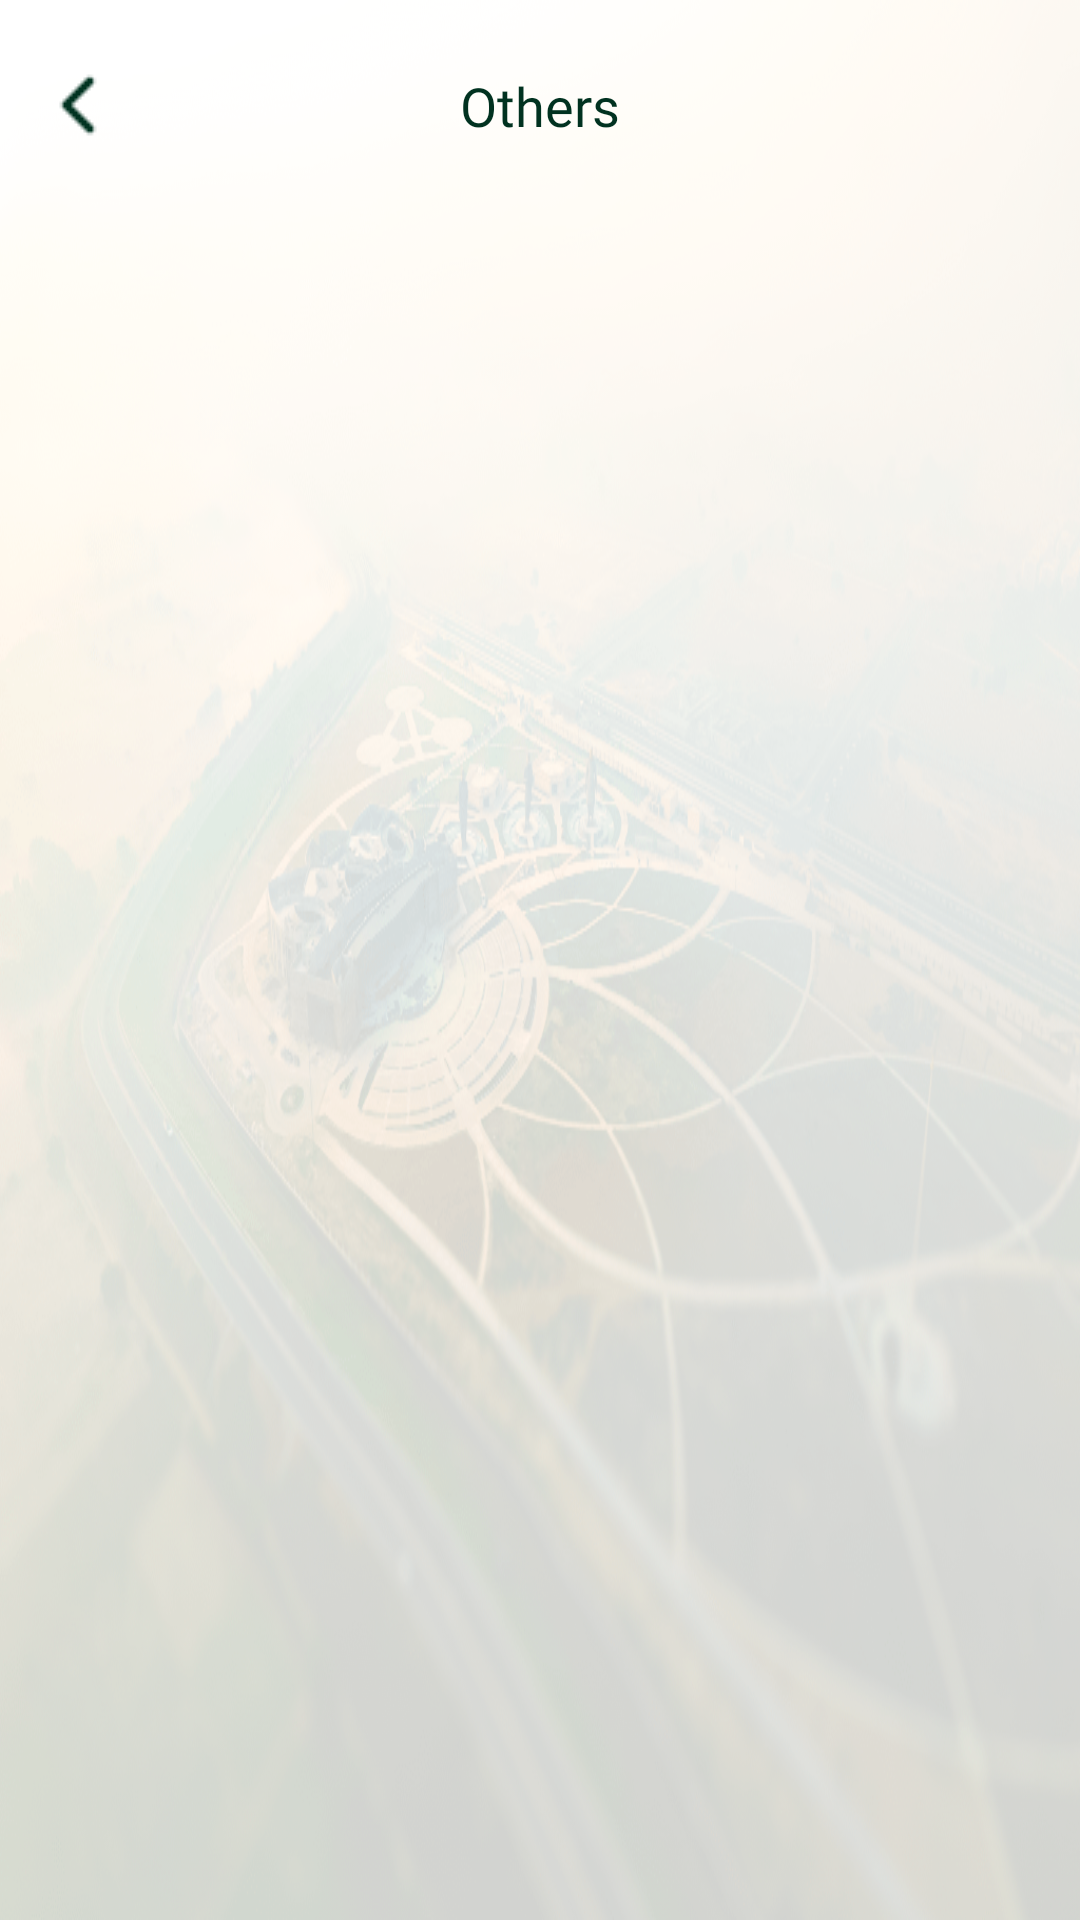

Icon bounding boxes for this 1080 x 1920 phone screenshot, format (x1=x1, y1=y1, x2=x2, y2=y2):
left: (x1=60, y1=75, x2=96, y2=135)
